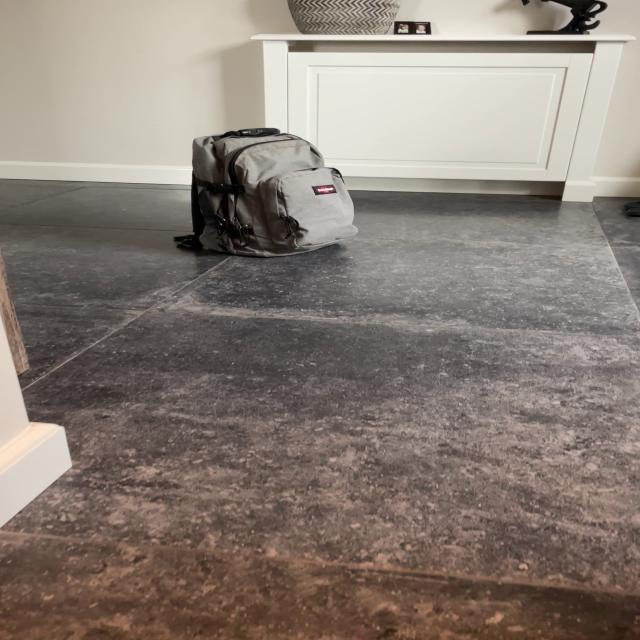backpack: (175, 121, 365, 262)
